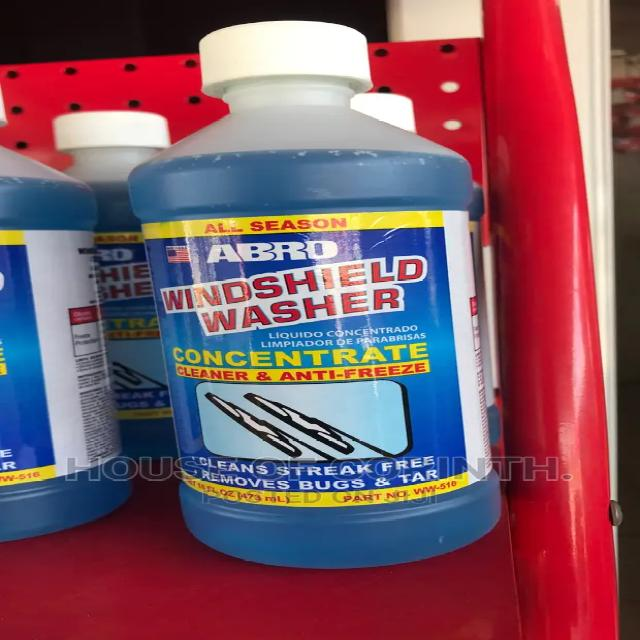winwinshield_washer: (136, 16, 507, 574)
